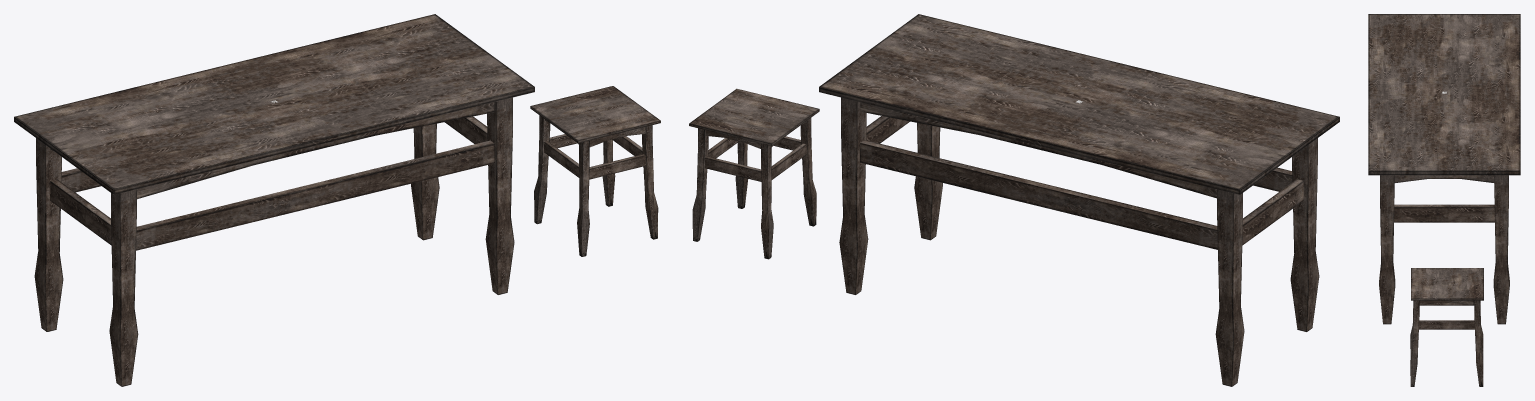
The model's file is table.glb.
3 renders of one model, left to right at view 1: azimuth 30°, elevation 25°; view 2: azimuth 150°, elevation 25°; view 3: azimuth 270°, elevation 25°, orthographic. The views are drawn at different scales.
Parts seen in each view (by area): view 1: Table_Chair; view 2: Table_Chair; view 3: Table_Chair.
Boxes of the visible parts, x1,y1,x2,y2 form: Table_Chair: (14,14,660,386); Table_Chair: (689,14,1339,386); Table_Chair: (1368,14,1520,386).
Size of the model in its own units: 233 by 80.86 by 70.
2 materials, 1 textured.
